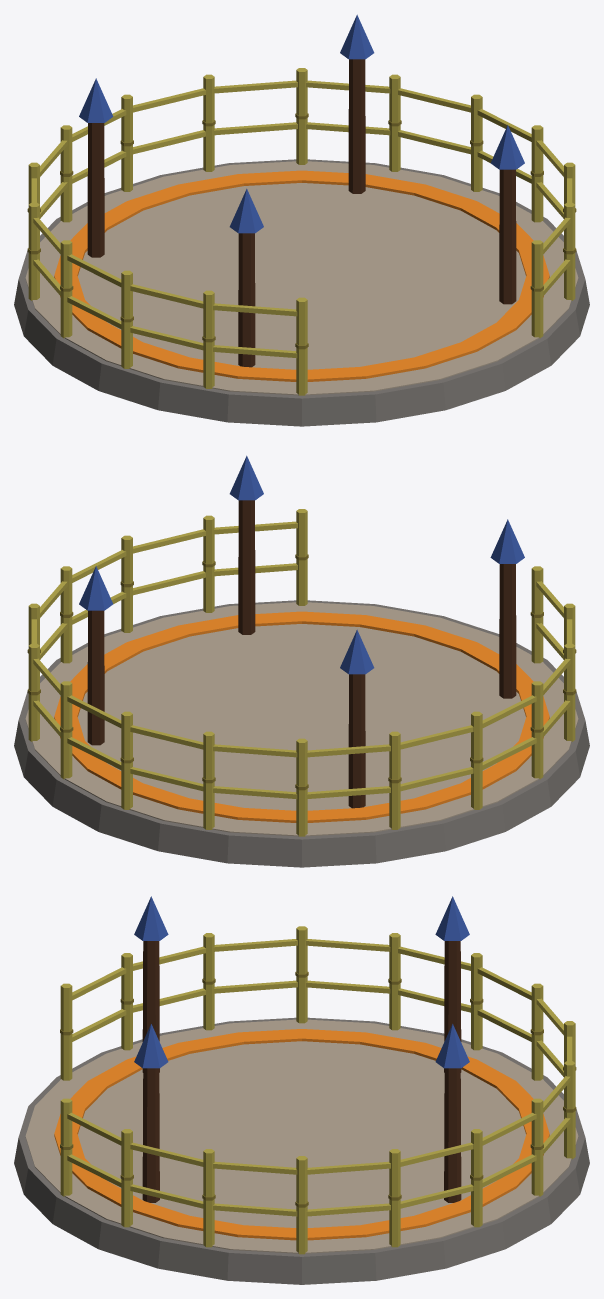
Rendered from panggung_bundar_v001.glb.
3 renders of one model, top to bottom at view 1: azimuth 30°, elevation 25°; view 2: azimuth 150°, elevation 25°; view 3: azimuth 270°, elevation 25°, orthographic.
Parts seen in each view (by area): view 1: Panggung_Bundar; view 2: Panggung_Bundar; view 3: Panggung_Bundar.
Boxes of the visible parts, x1,y1,x2,y2 form: Panggung_Bundar: (14, 14, 589, 426); Panggung_Bundar: (14, 455, 589, 867); Panggung_Bundar: (14, 896, 589, 1284).
Size of the model in its own units: 5 by 1.95 by 5.
